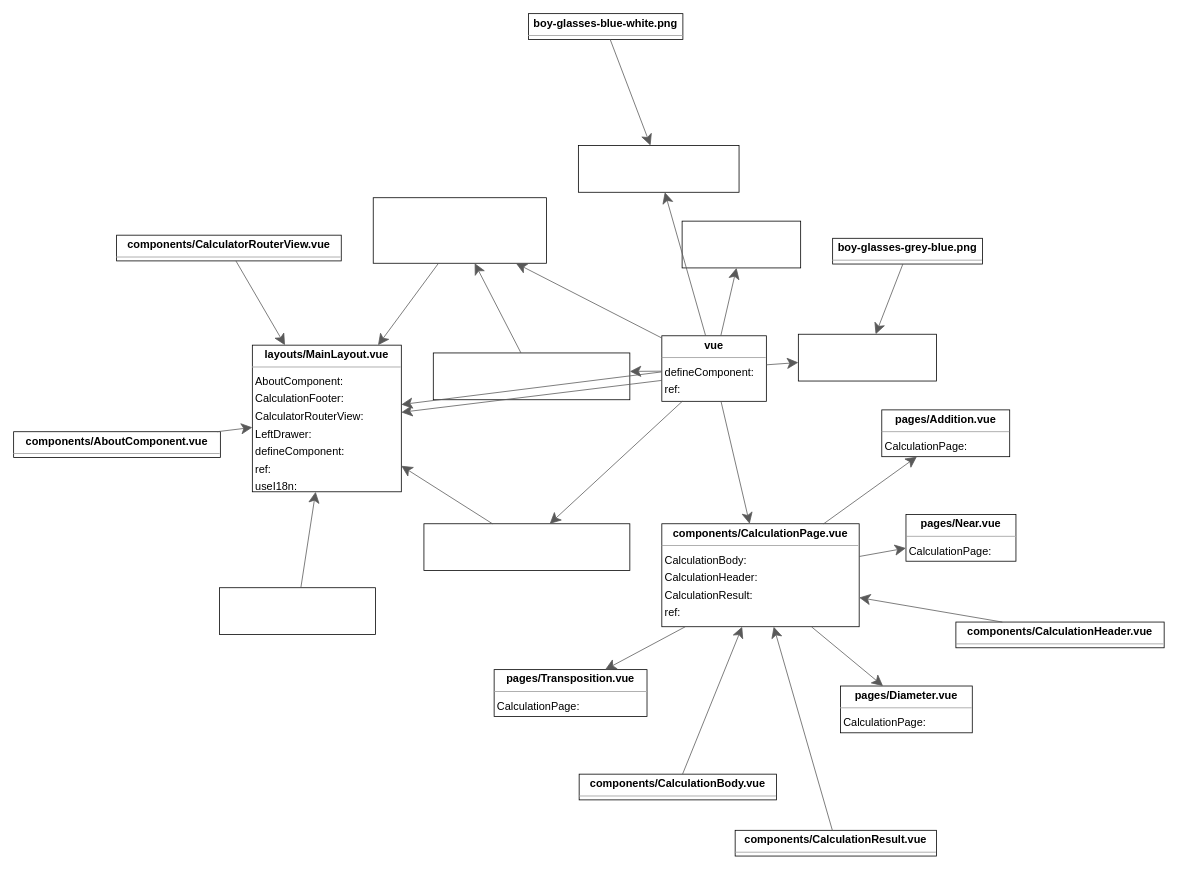
Image size: 1178x870. Some labels were removed from this diagram. The centre of each missing label's shape, as x and y in pixels:
"components/CalculationFooter.vue ref:" goes at pixel 526 547.
"components/CalculationLinks.vue defineComponent:" goes at pixel 531 376.
"components/LeftDrawer.vue CalculationLinks: defineComponent:" goes at pixel 459 230.
"pages/ErrorNotFound.vue defineComponent:" goes at pixel 658 168.
"pages/IndexPage.vue defineComponent:" goes at pixel 867 357.
"src/App.vue defineComponent:" goes at pixel 741 244.
"vue-i18n/.../vue-i18n.d.ts useI18n:" goes at pixel 297 611.
